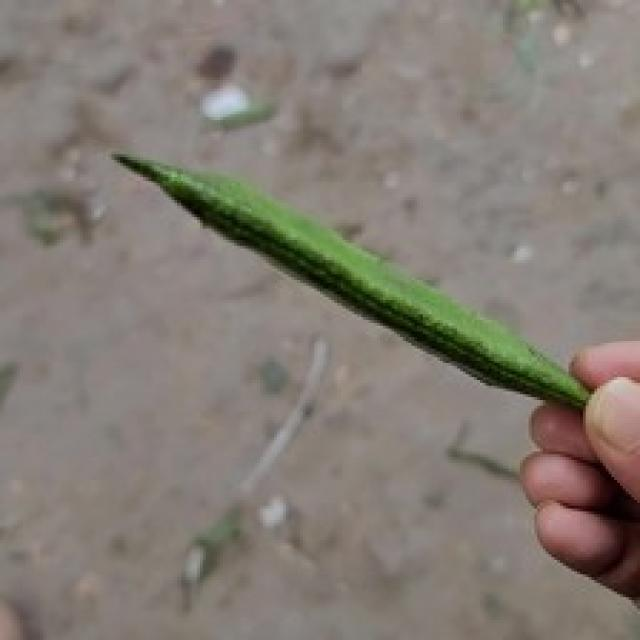Bean: (109, 146, 592, 414)
